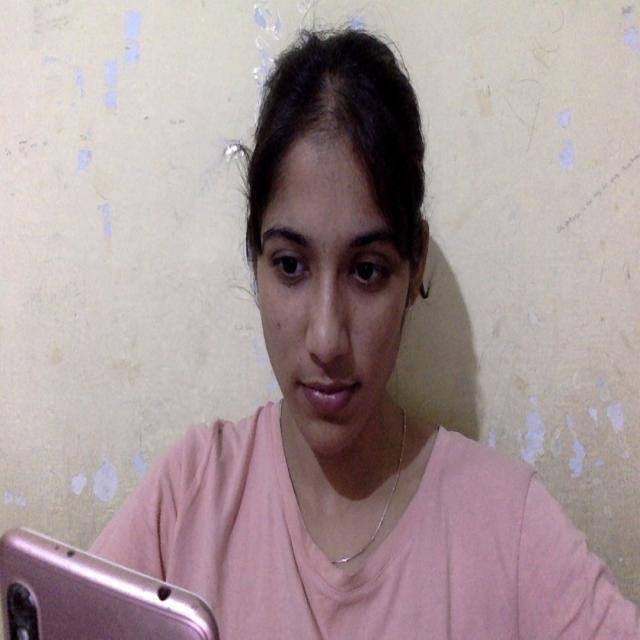Phone: (0, 526, 217, 640)
